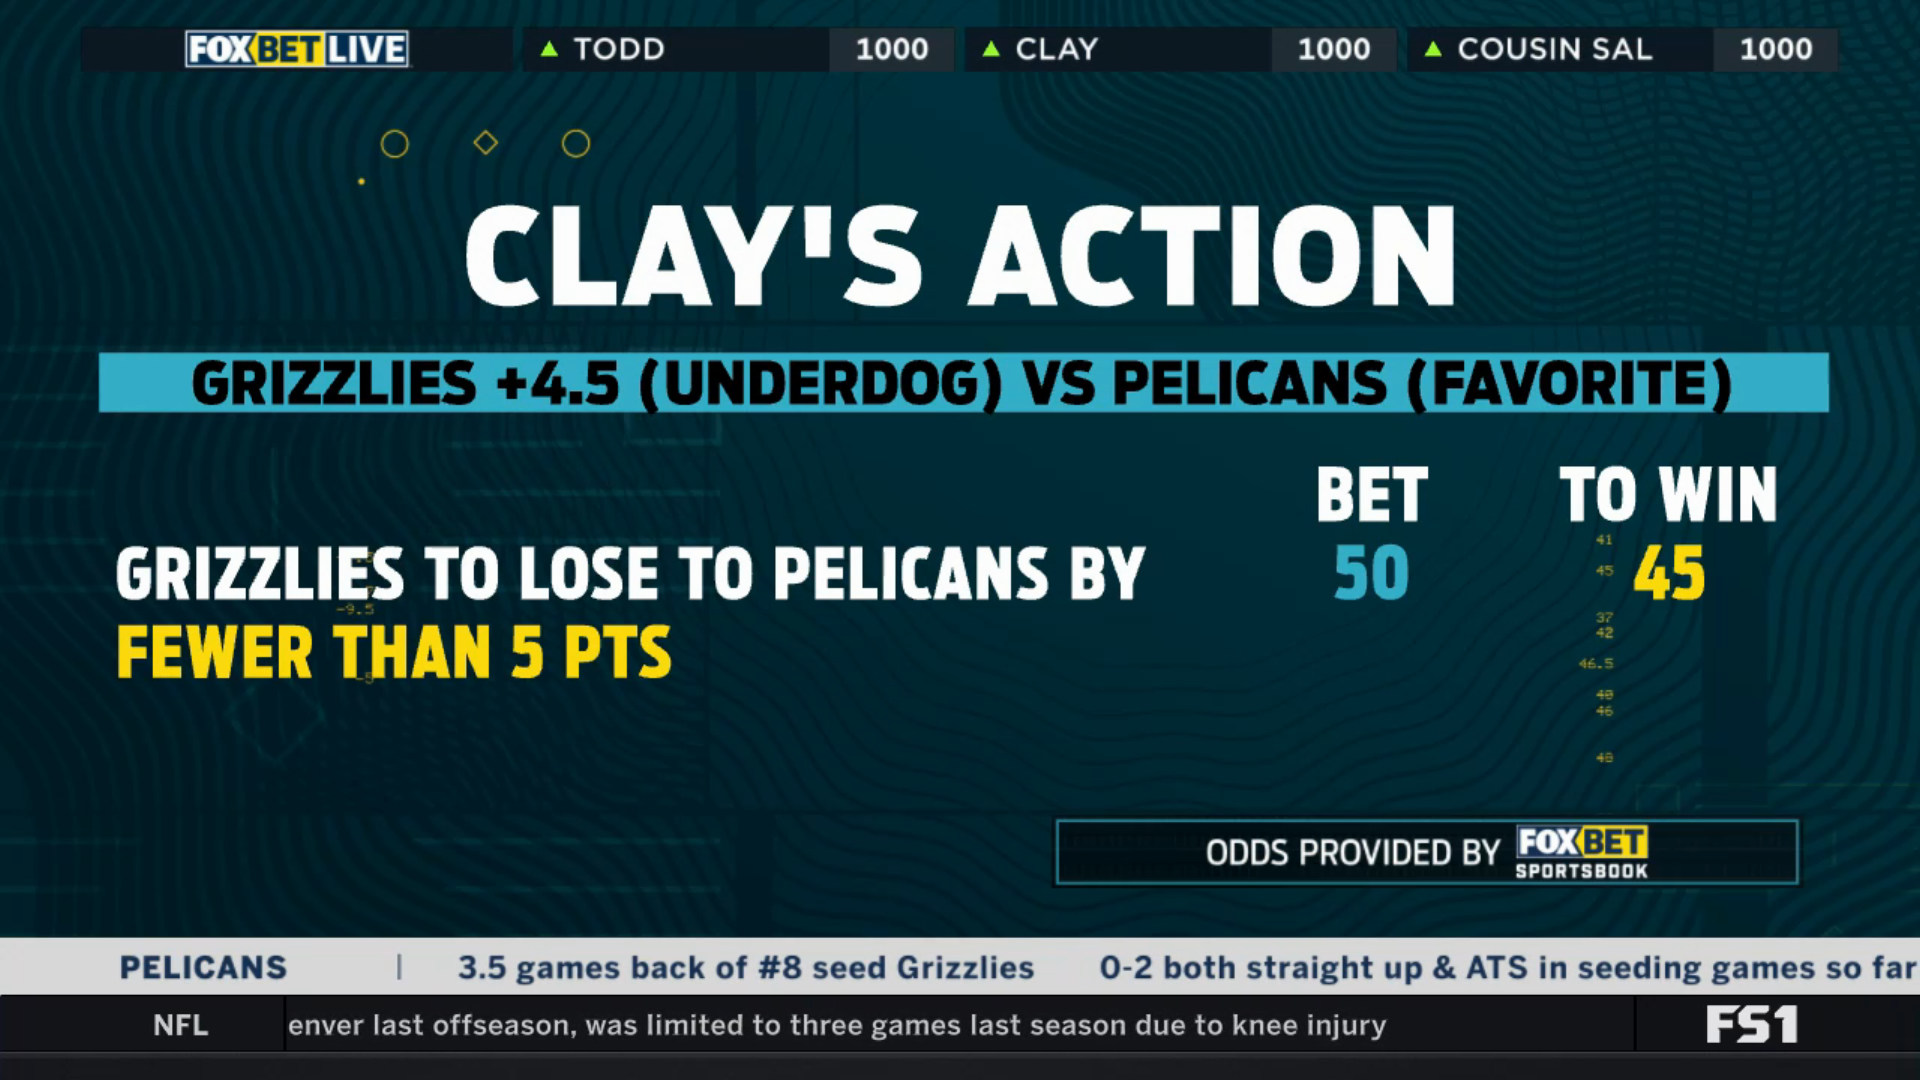Bet: (105, 535, 1160, 692)
Bet Amount: (1305, 451, 1441, 618)
Subtitle: (87, 344, 1845, 423)
Title: (454, 193, 1472, 319)
To Win: (1547, 448, 1799, 625)
Top Bar: (69, 16, 1847, 83)
